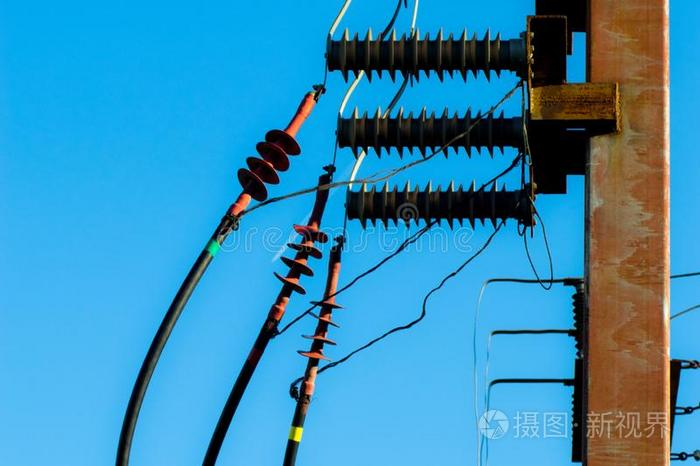insulator: (237, 129, 301, 199), (274, 222, 325, 298), (296, 297, 344, 366)
